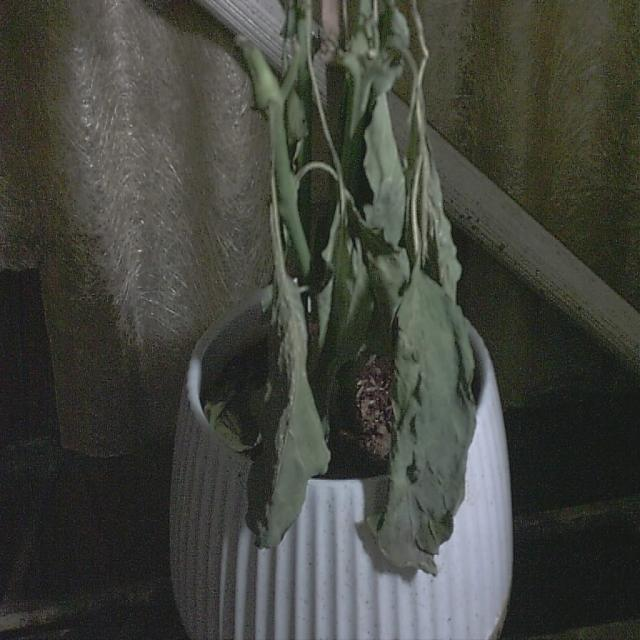Leaf: (363, 286, 484, 578), (245, 264, 330, 550)
